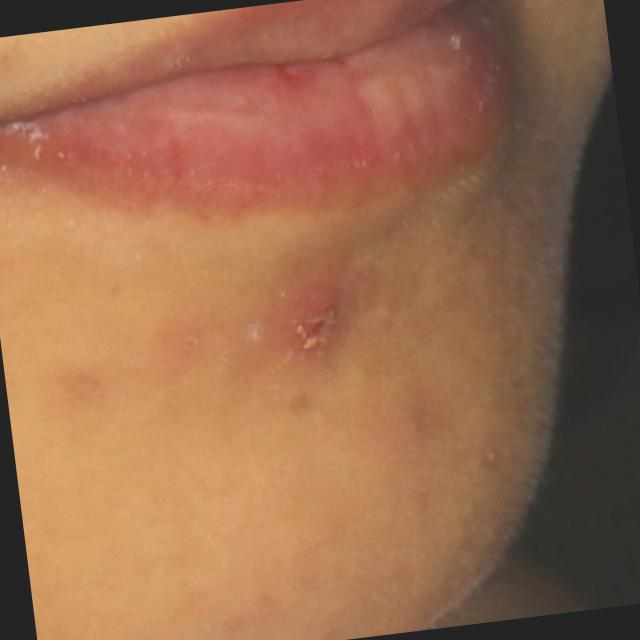nodule: (276, 282, 354, 360)
